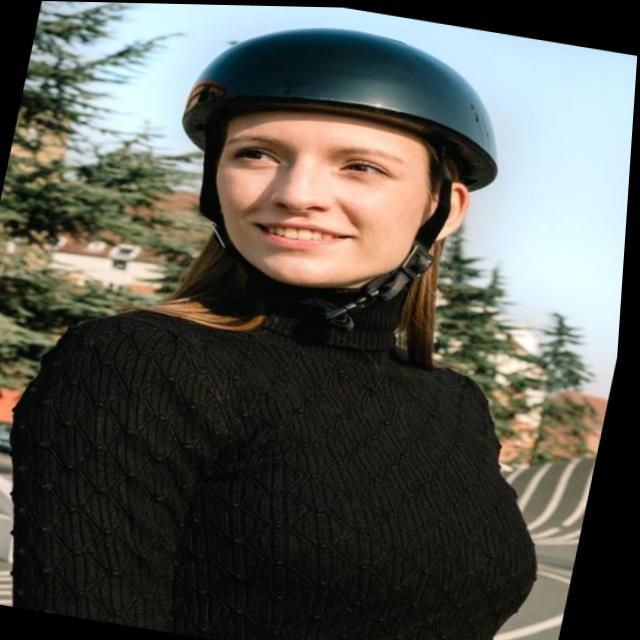helmet: (146, 3, 524, 342)
